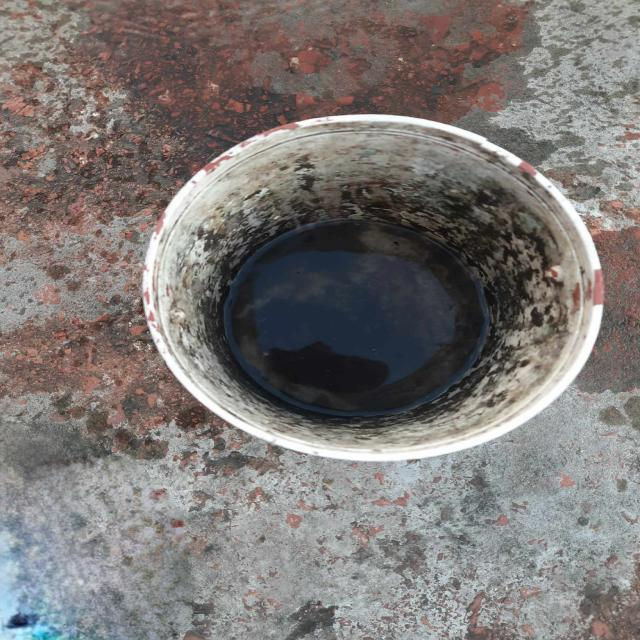Breeding Place: (119, 105, 622, 473)
